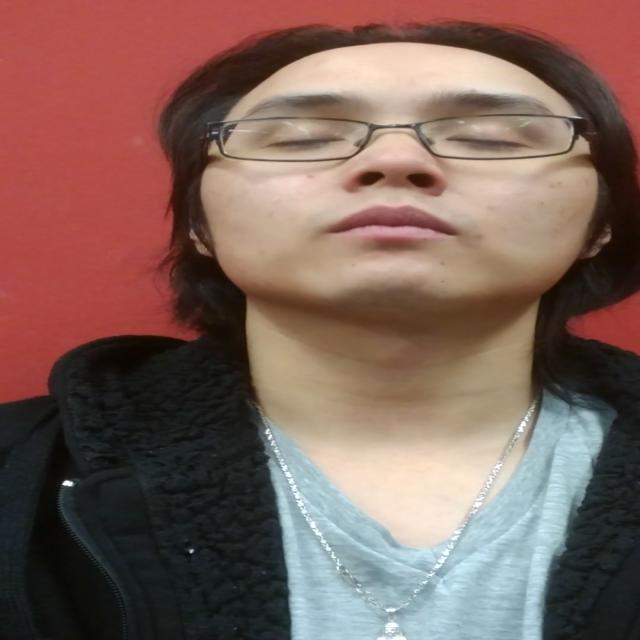Eyeclosed: (446, 122, 530, 160), (269, 124, 344, 158)
